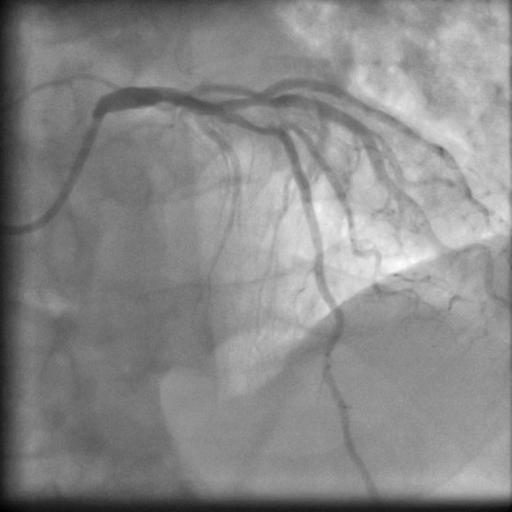Stenosis: (232, 110, 277, 134)
